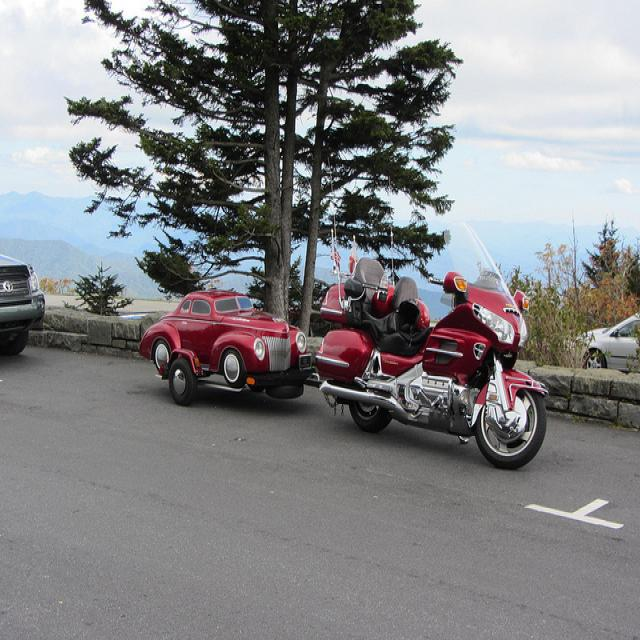motor: (315, 221, 550, 471)
